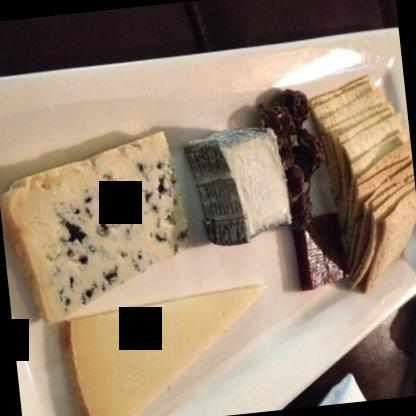parmesan cheese: (0, 128, 191, 326), (55, 285, 280, 415)
